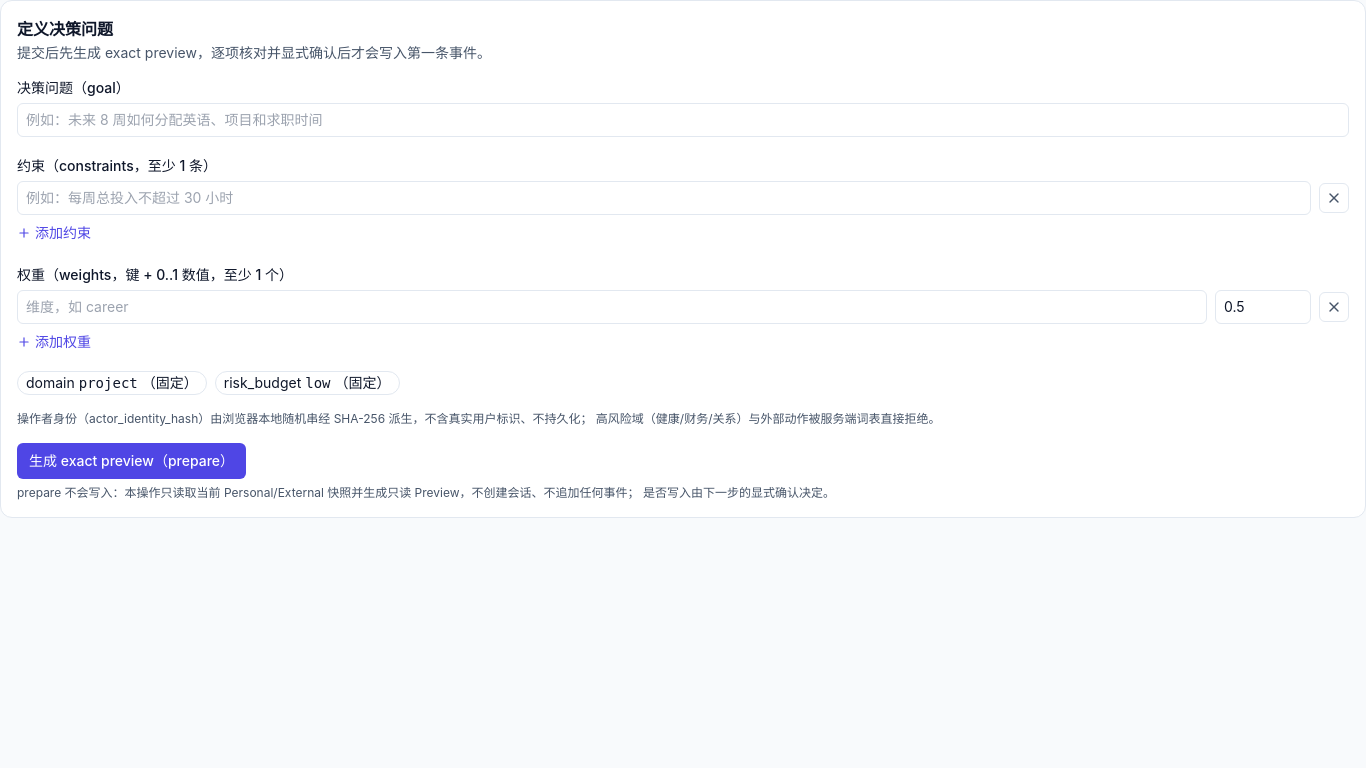
NewSessionFlow › 不存在"一键完成全部阶段"入口：confirm 成功后只提供"进入会话推进视图"，无跳跃到后续 transition 的按钮
The image size is (1366, 768).
Type "未来 8 周如何分配时间" into the field labelled "决策问题（goal）" at x=683, y=120, box left=17, top=103, right=1349, bottom=137
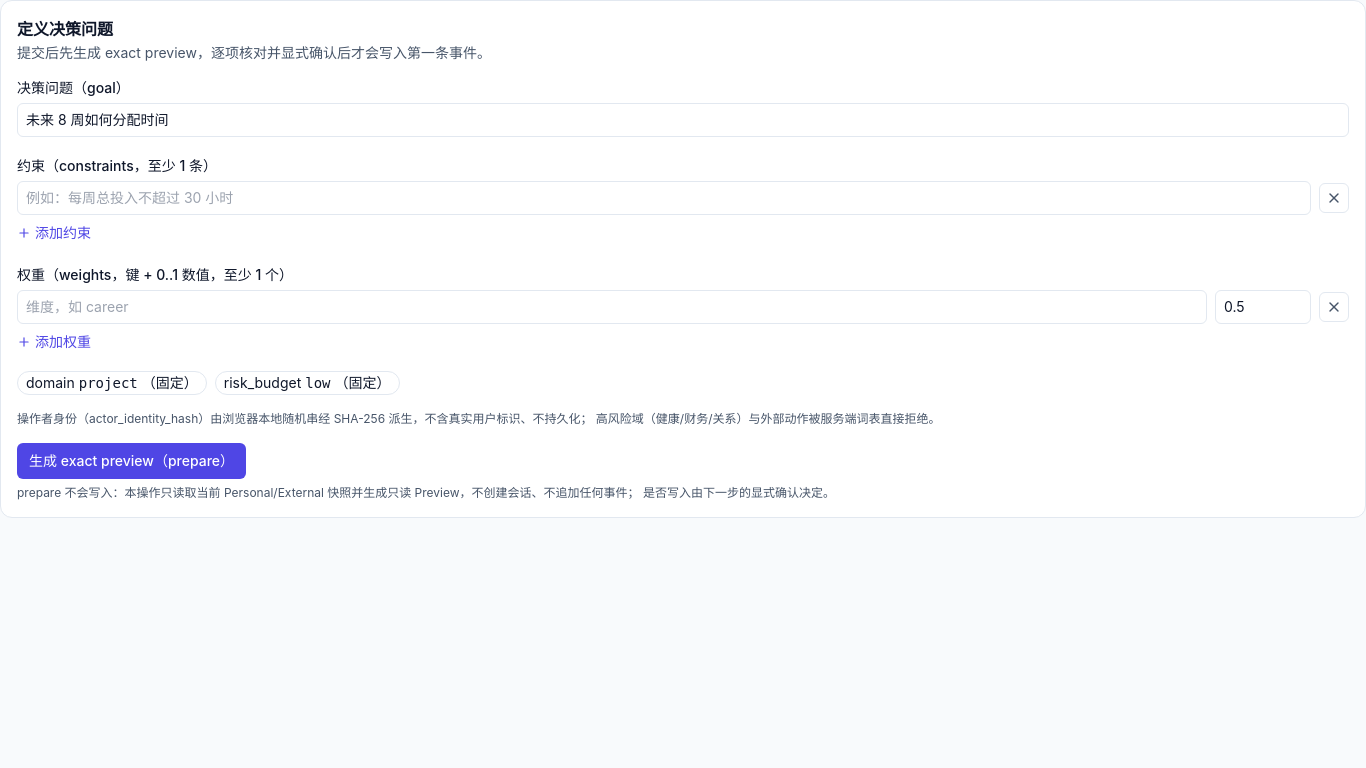
Type "每周不超过 30 小时" into the field named "约束 1" at x=664, y=198, box left=17, top=181, right=1311, bottom=215
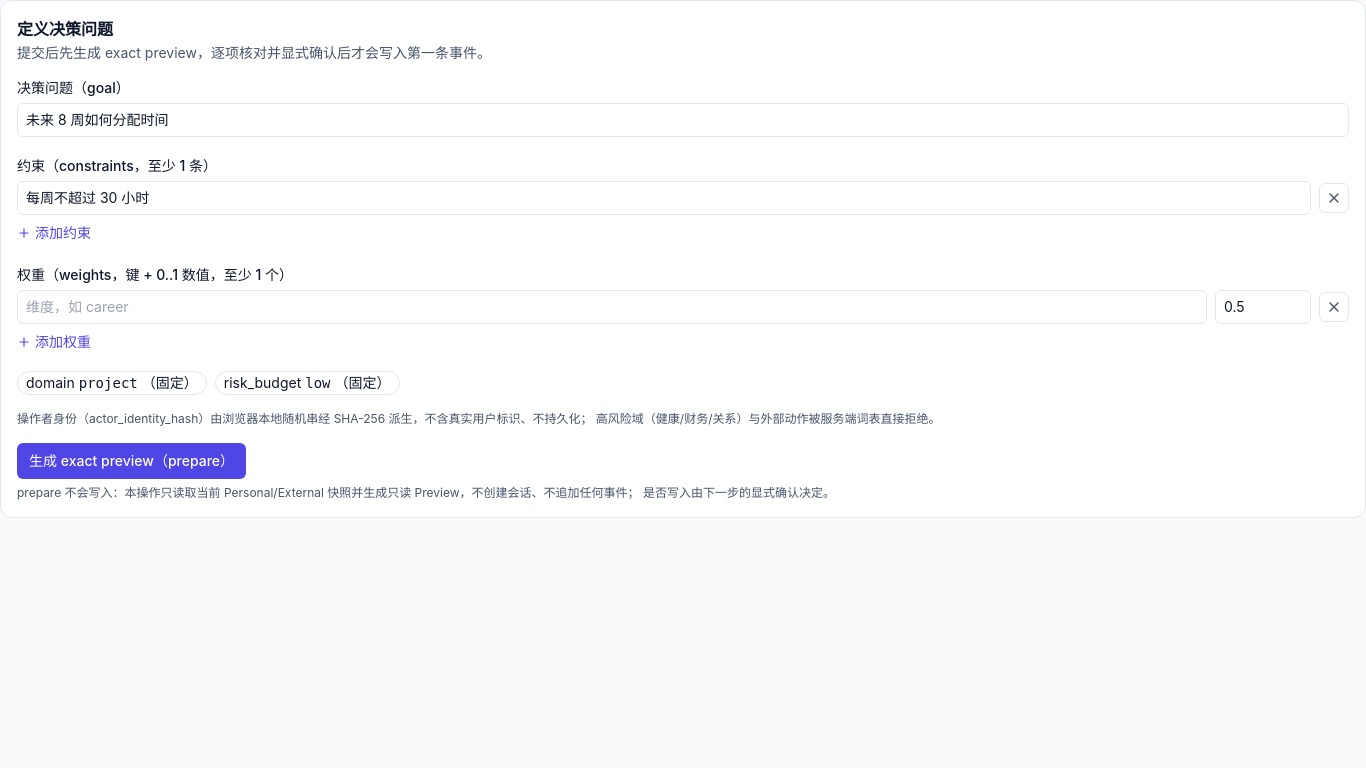
Type "career" into the field named "权重 1 名称" at x=612, y=307, box left=17, top=290, right=1207, bottom=324
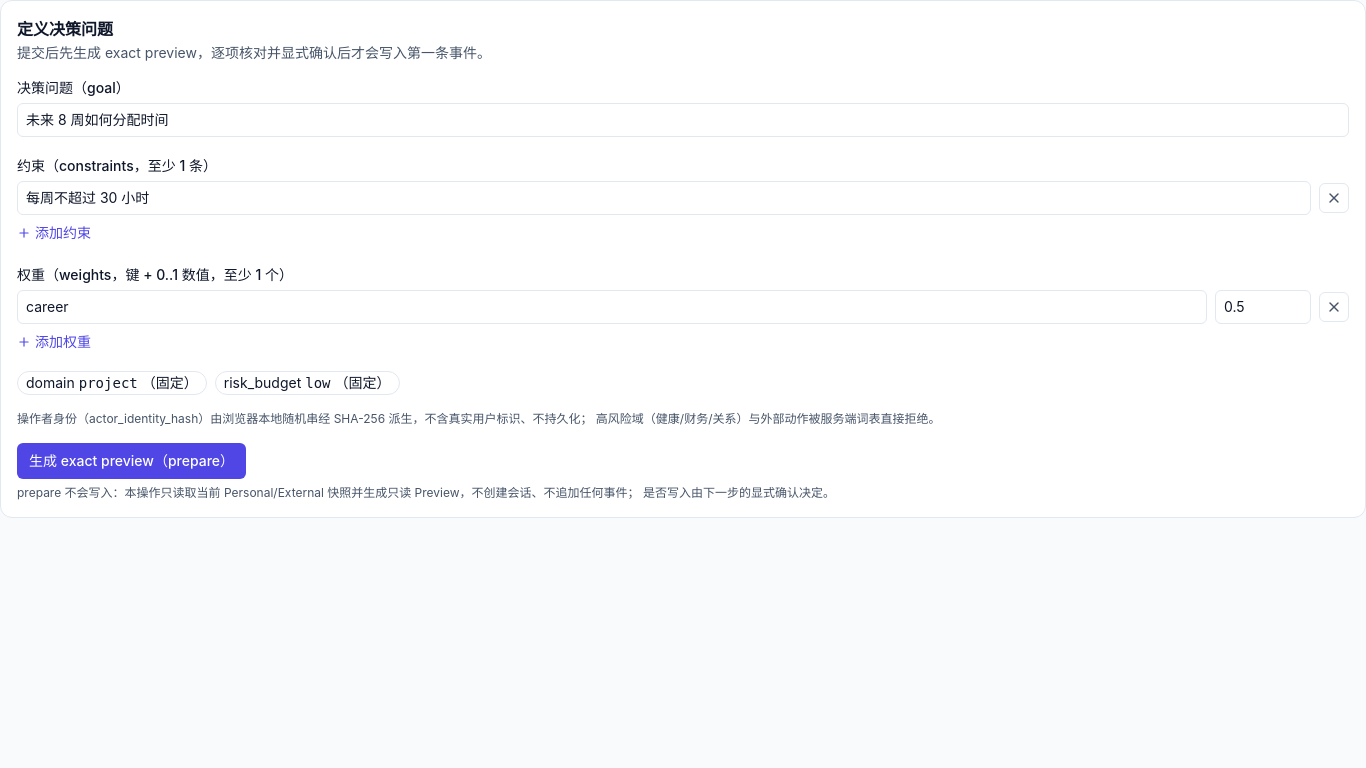
Click the button "生成 exact preview（prepare）" at x=132, y=461, box left=17, top=443, right=246, bottom=479
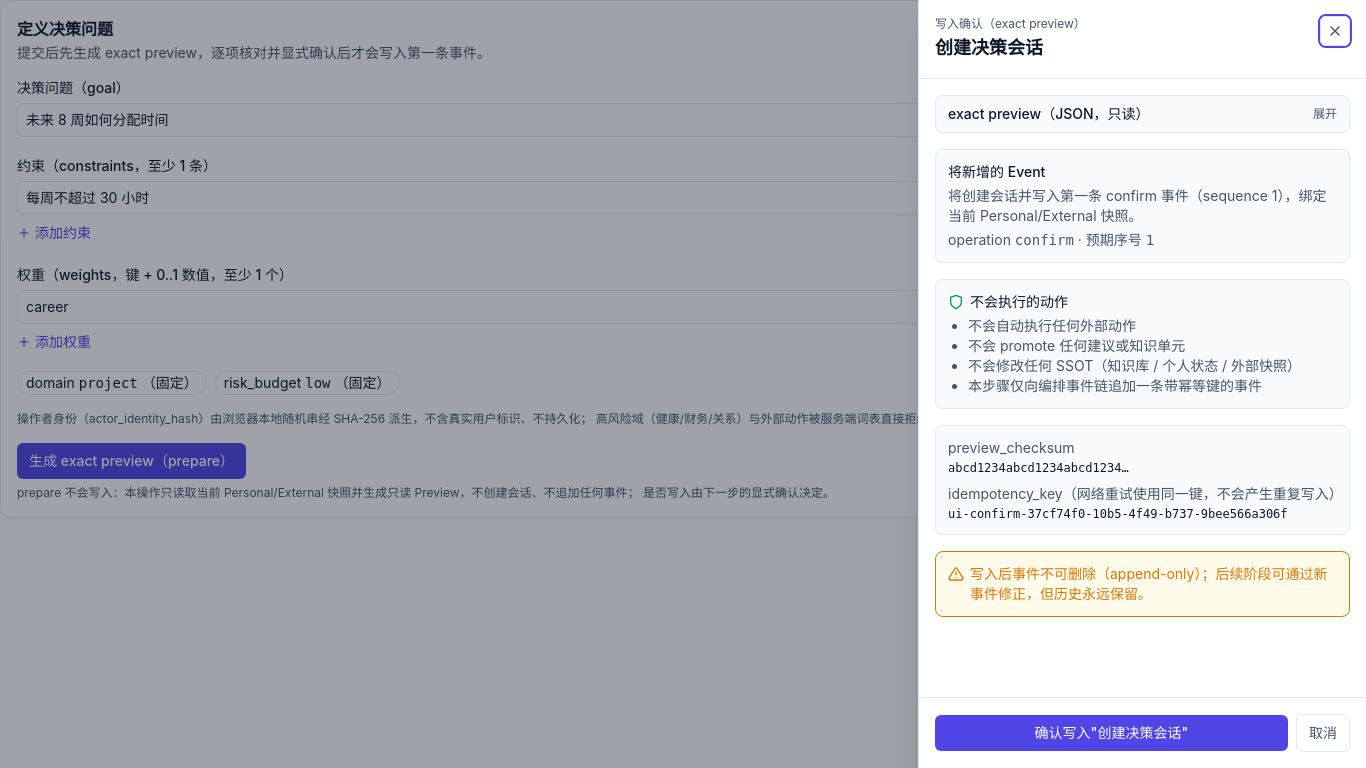
Expected: the dialog is shown
Click the button "确认写入\"创建决策会话\"" at x=1112, y=733, box left=935, top=715, right=1288, bottom=751
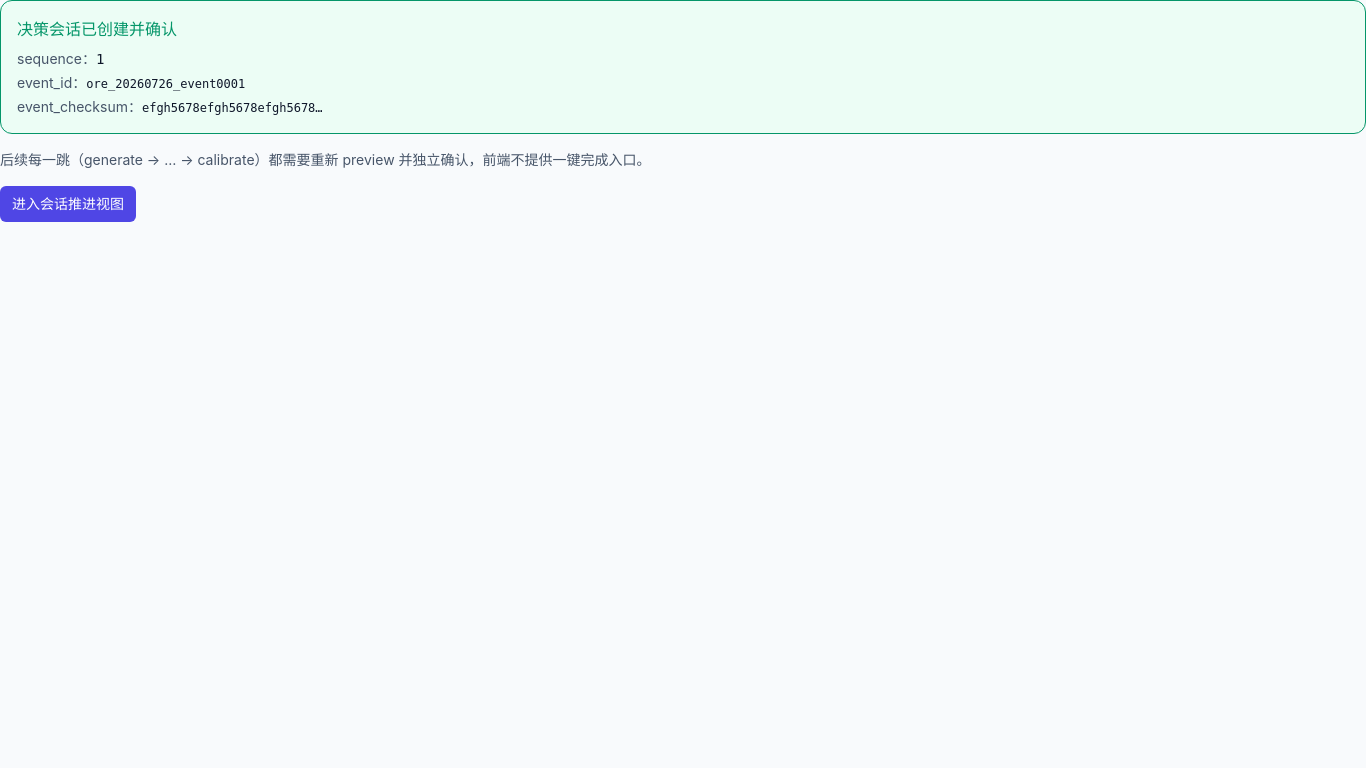
Expected: the heading "决策会话已创建并确认" is shown, left=17, top=19, right=177, bottom=39
Expected: the text "前端不提供一键完成入口" is shown, left=0, top=151, right=651, bottom=168
Expected: the number of buttons is 1, left=0, top=186, right=136, bottom=222
